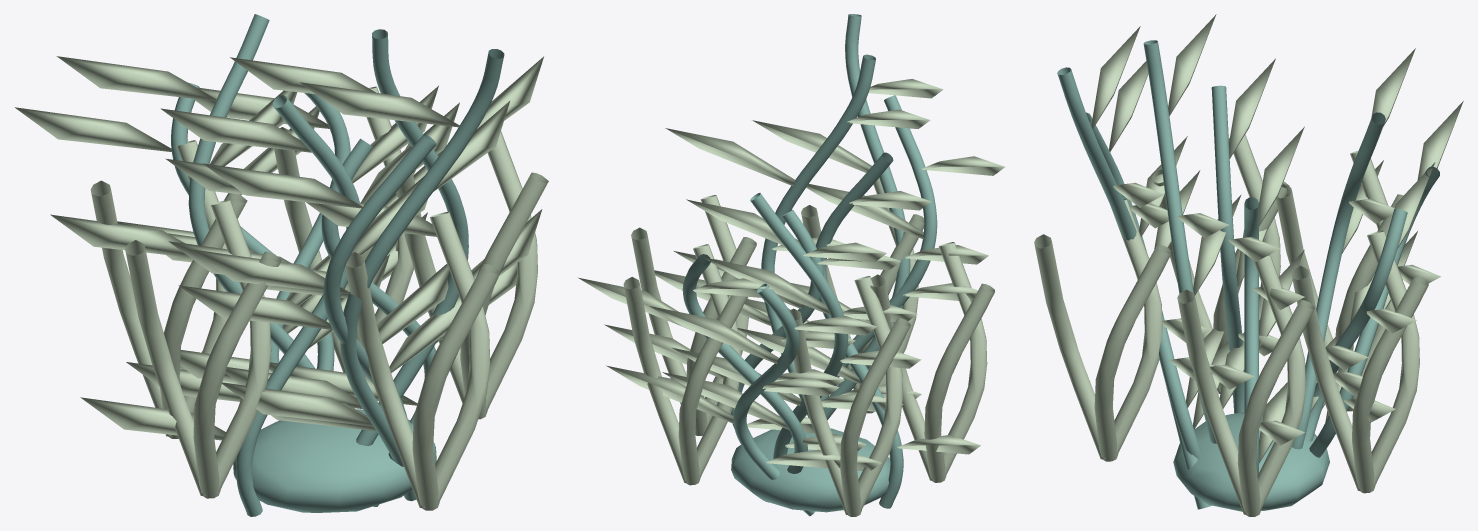
The model's file is bio_aquatic_frond_09_far.glb.
3 renders of one model, left to right at view 1: azimuth 30°, elevation 25°; view 2: azimuth 150°, elevation 25°; view 3: azimuth 270°, elevation 25°, orthographic. The views are drawn at different scales.
Visible parts, largest first — view 1: Spiral filament.006, Spiral filament.012, Ruffled aquatic blade.010, Holdfast, Ruffled aquatic blade.035, Spiral filament, Ruffled aquatic blade.005, Spiral filament.003, Ruffled aquatic blade.020, Ruffled aquatic blade.025, Flexible stipe.002, Flexible stipe.004 (+10 smaller); view 2: Spiral filament.003, Spiral filament.012, Spiral filament.009, Ruffled aquatic blade.030, Holdfast, Ruffled aquatic blade.020, Ruffled aquatic blade.005, Spiral filament, Ruffled aquatic blade.025, Ruffled aquatic blade.015, Ruffled aquatic blade.010, Ruffled aquatic blade.035 (+10 smaller); view 3: Spiral filament.006, Spiral filament, Spiral filament.009, Holdfast, Ruffled aquatic blade.025, Ruffled aquatic blade, Flexible stipe.004, Spiral filament.003, Flexible stipe.001, Flexible stipe.005, Ruffled aquatic blade.010, Ruffled aquatic blade.035 (+10 smaller).
Part boxes in pixels (x1,y1,x2,y2): Spiral filament.006: (345, 211, 500, 510); Spiral filament.012: (125, 199, 281, 498); Ruffled aquatic blade.010: (190, 82, 509, 426); Holdfast: (233, 409, 436, 512); Ruffled aquatic blade.035: (178, 163, 461, 430); Spiral filament: (396, 131, 548, 419); Ruffled aquatic blade.005: (50, 56, 330, 382); Spiral filament.003: (90, 140, 247, 438); Ruffled aquatic blade.020: (80, 102, 459, 440); Ruffled aquatic blade.025: (225, 56, 543, 408); Flexible stipe.002: (340, 49, 504, 501); Flexible stipe.004: (236, 95, 359, 516); Spiral filament.003: (790, 276, 910, 516); Spiral filament.012: (870, 242, 994, 482); Spiral filament.009: (623, 244, 747, 485); Ruffled aquatic blade.030: (606, 306, 876, 468); Holdfast: (731, 428, 890, 512); Ruffled aquatic blade.020: (686, 191, 980, 454); Ruffled aquatic blade.005: (672, 242, 921, 452); Spiral filament: (631, 195, 756, 435); Ruffled aquatic blade.025: (654, 109, 930, 411); Ruffled aquatic blade.015: (578, 277, 881, 470); Ruffled aquatic blade.010: (752, 79, 988, 398); Ruffled aquatic blade.035: (744, 156, 1004, 411); Spiral filament.006: (1034, 199, 1171, 461); Spiral filament: (1177, 254, 1314, 516); Spiral filament.009: (1291, 230, 1428, 493); Holdfast: (1173, 412, 1329, 511); Ruffled aquatic blade.025: (1168, 14, 1260, 408); Ruffled aquatic blade: (1253, 126, 1304, 463); Flexible stipe.004: (1211, 85, 1244, 413); Spiral filament.003: (1276, 150, 1403, 411); Flexible stipe.001: (1292, 112, 1385, 449); Flexible stipe.005: (1143, 40, 1216, 443); Ruffled aquatic blade.010: (1091, 26, 1224, 407); Ruffled aquatic blade.035: (1109, 61, 1241, 429).
Bounding box in the file's own units: 1.79 × 1.89 × 1.64.
